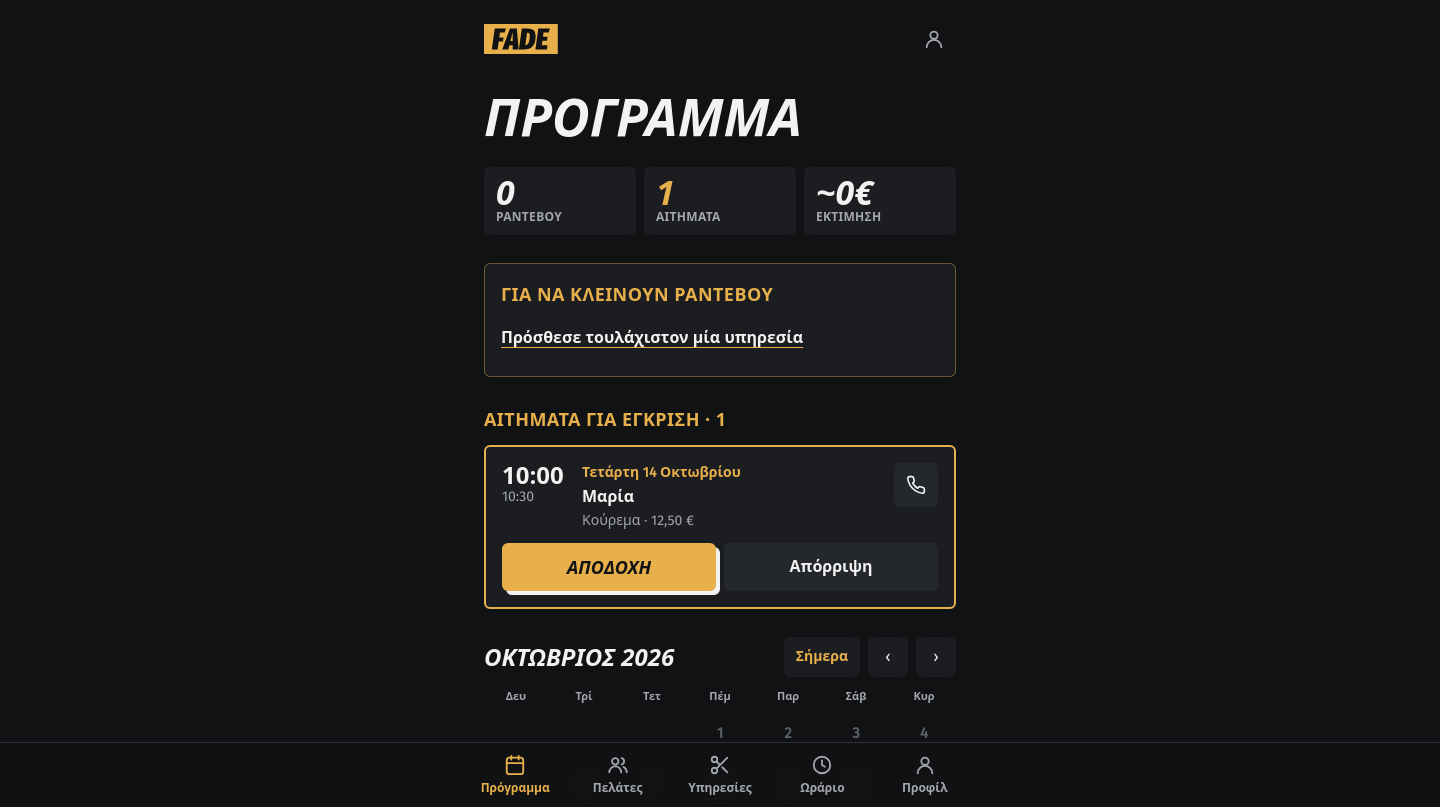
Test: lets the barber accept a booking request
Expected: the heading "Αιτήματα για έγκριση · 1" is shown, [484, 407, 726, 431]
What coordinates should you click on to do the following:
click the button "Αποδοχή"
I would click on:
 (609, 567)
Its box is [502, 543, 716, 591].
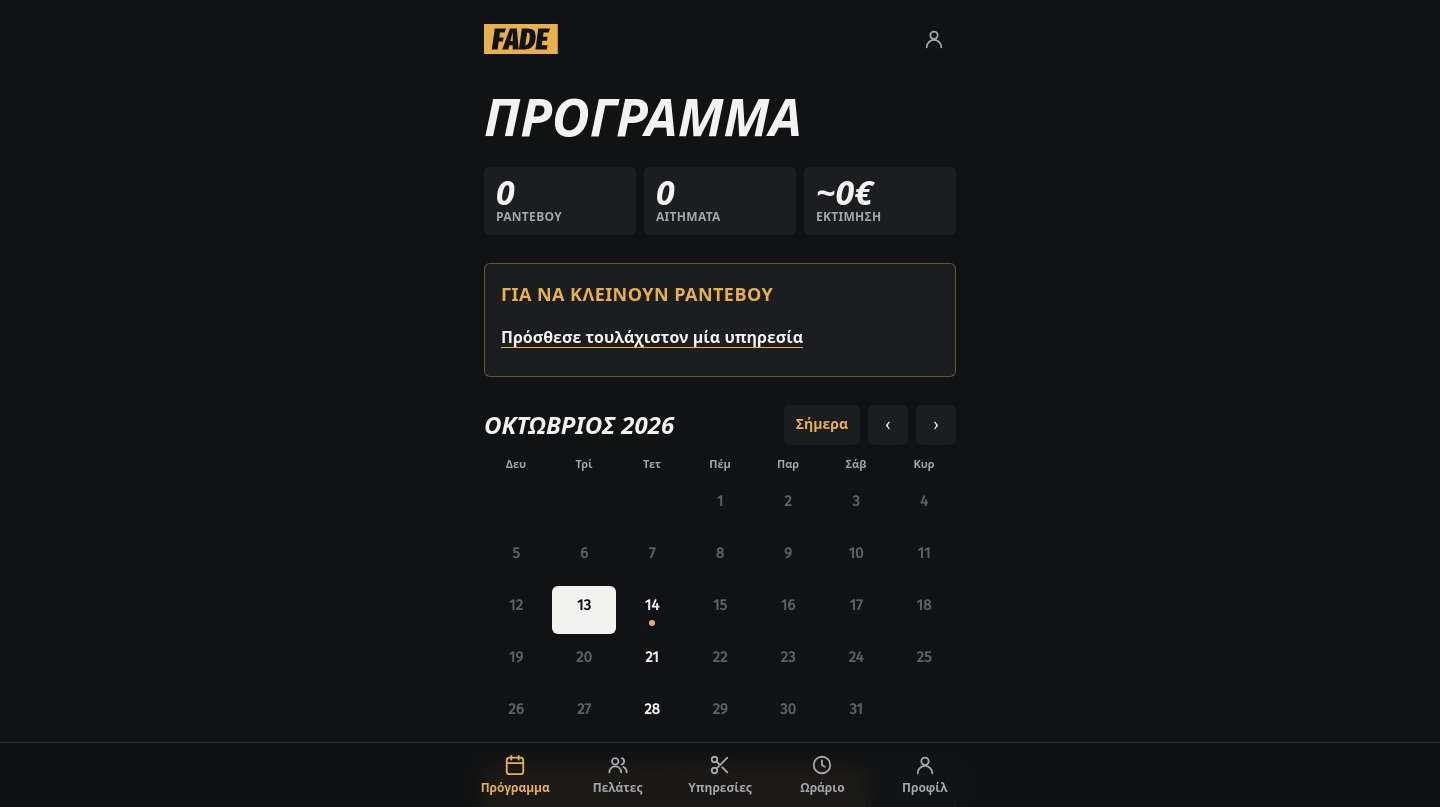
Expected: the heading "Αιτήματα για έγκριση" is gone
Expected: the button "Αποδοχή" is gone
Tomorrow on the calendar now holds the confirmed appointment.
What coordinates should you click on to do the following:
click the button named "14 Οκτωβρίου, 1 ραντεβού"
I would click on:
 (652, 610)
Its box is [620, 586, 684, 634].
(page scrolled)
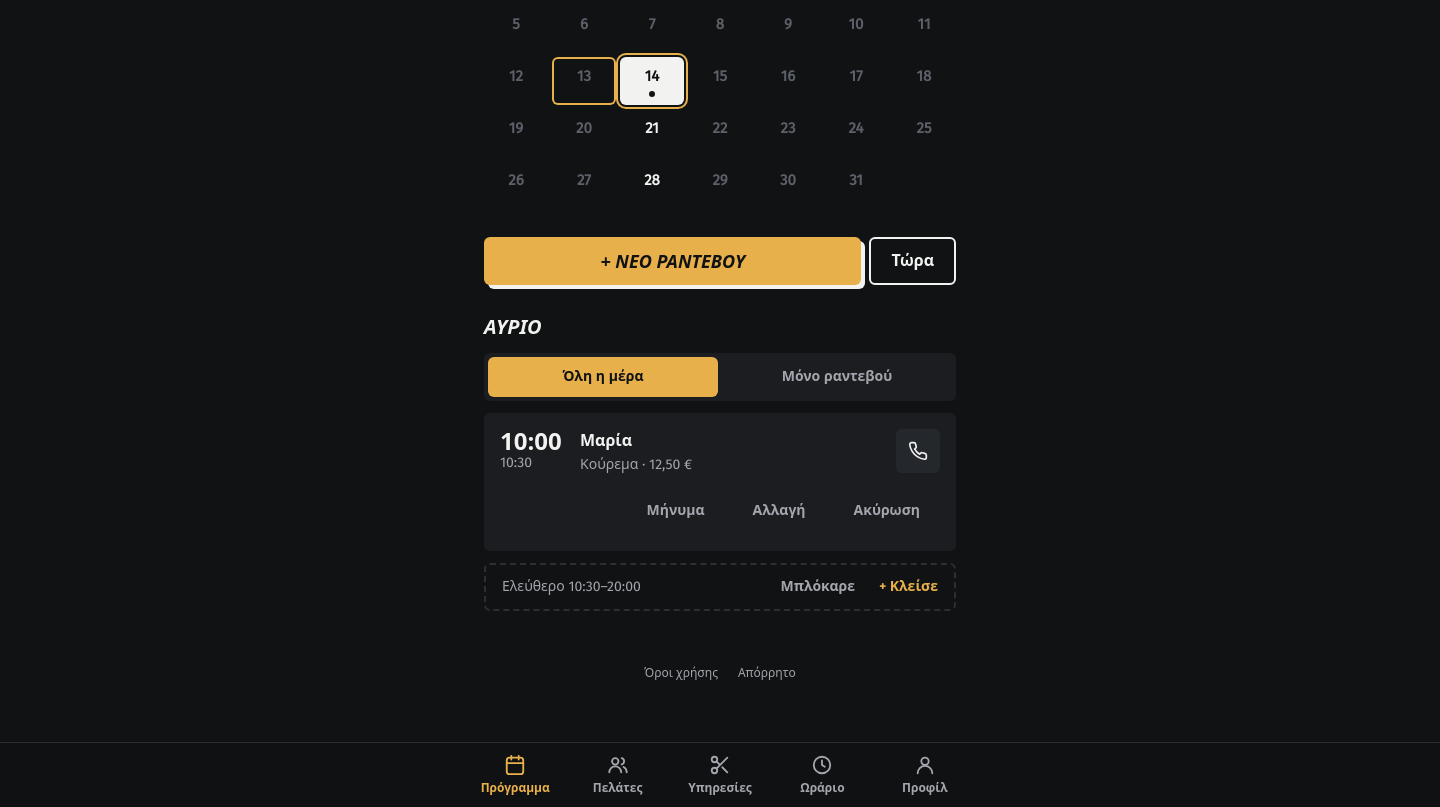
Expected: the heading "Αύριο" is shown, [484, 313, 542, 341]
Expected: the text "Μαρία" is shown, [580, 429, 632, 453]
